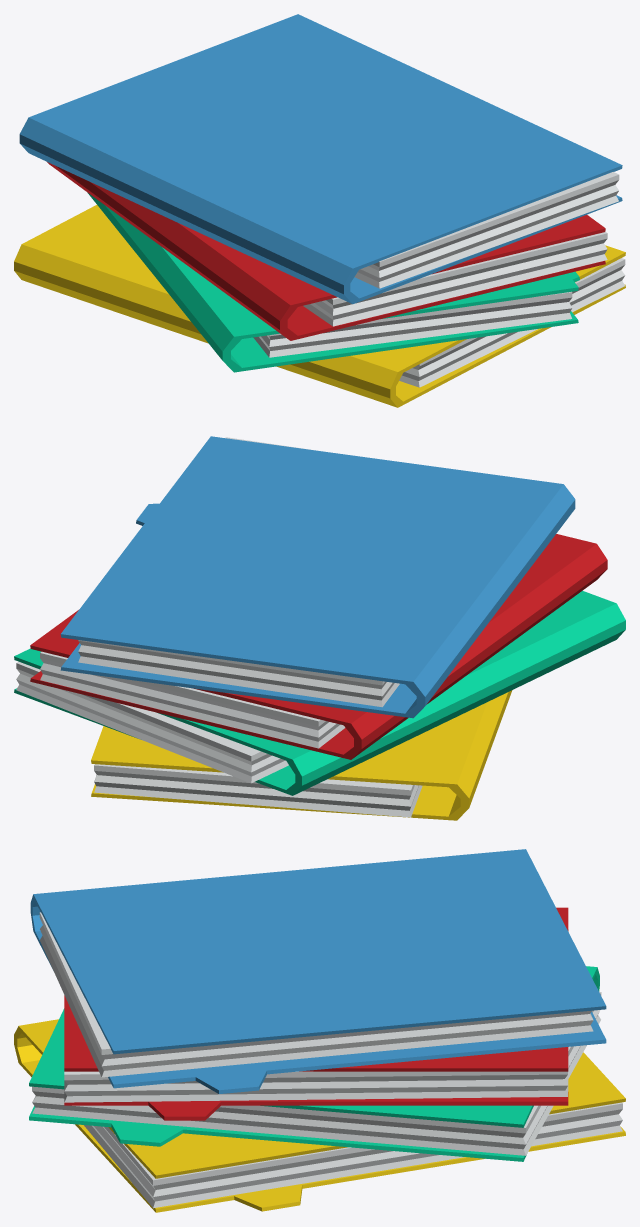
Rendered from Files.fbx.
3 renders of one model, top to bottom at view 1: azimuth 30°, elevation 25°; view 2: azimuth 150°, elevation 25°; view 3: azimuth 270°, elevation 25°, orthographic. The views are drawn at different scales.
Parts seen in each view (by area): view 1: Cube.011; view 2: Cube.011; view 3: Cube.011.
Part boxes in pixels (x1=…): Cube.011: x1=14, y1=14, x2=625, y2=407; Cube.011: x1=14, y1=436, x2=625, y2=820; Cube.011: x1=14, y1=849, x2=625, y2=1212.
Bounding box in the file's own units: 102 × 30.82 × 114.
1 material, 1 textured.
